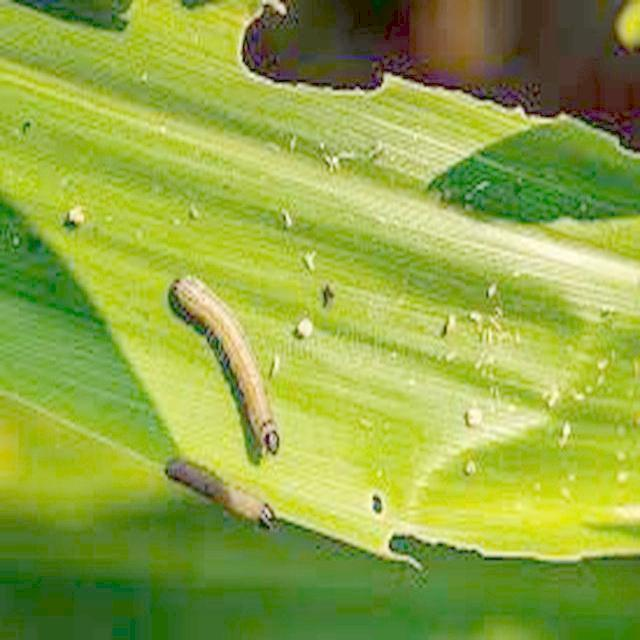gusano_cogollero: (168, 266, 282, 462)
